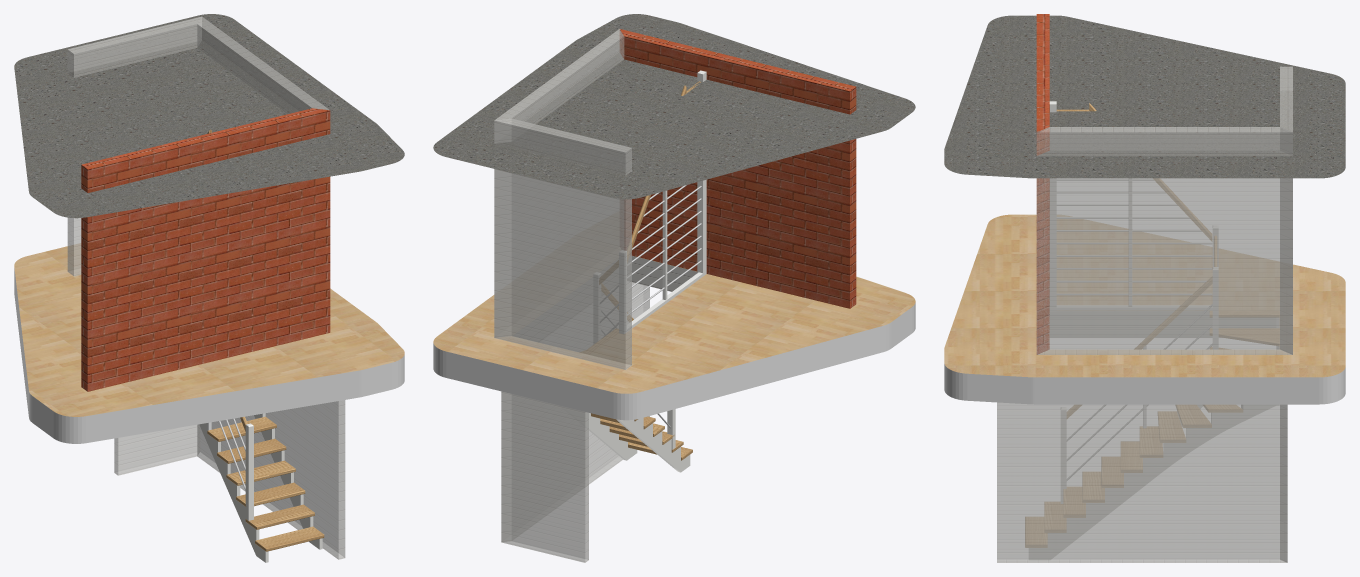
3 views of the same model, side by side, from view 1: azimuth 30°, elevation 25°; view 2: azimuth 150°, elevation 25°; view 3: azimuth 270°, elevation 25° (orthographic). The views are drawn at different scales.
Visible parts, largest first — view 1: _x0023_BEGIN_WALLczerwona_cegla.jpg1110_x002C_3, _x0023_OBJECT3Dbeton1.jpg1111, _x0023_OBJECT3Dcon_parkett.jpg1111, _x0023_BEGIN_WALLcon_PanelWhite.jpg1110_x002C_3, _x0023_OBJECT3D0_x002C_90_x002C_90_x002C_91, _x0023_TREADjesion.jpg1111, _x0023_STRING0_x002C_980_x002C_980_x002C_951 (×2), _x0023_POST0_x002C_980_x002C_980_x002C_951; view 2: _x0023_BEGIN_WALLcon_PanelWhite.jpg1110_x002C_3, _x0023_OBJECT3Dbeton1.jpg1111, _x0023_BEGIN_WALLczerwona_cegla.jpg1110_x002C_3, _x0023_OBJECT3Dcon_parkett.jpg1111, _x0023_OBJECT3D0_x002C_90_x002C_90_x002C_91, _x0023_BEGIN_OPENINGcon_PanelWhite.jpg1111, _x0023_POST0_x002C_980_x002C_980_x002C_951, _x0023_STRING0_x002C_980_x002C_980_x002C_951 (×2), _x0023_BOTTOMRAIL0_x002C_70_x002C_70_x002C_71, _x0023_TREADjesion.jpg1111, _x0023_HANDRAILjesion.jpg1111, _x0023_BOTTOMRAIL0_x002C_980_x002C_980_x002C_951; view 3: _x0023_BEGIN_WALLcon_PanelWhite.jpg1110_x002C_3, _x0023_OBJECT3Dbeton1.jpg1111, _x0023_OBJECT3Dcon_parkett.jpg1111, _x0023_OBJECT3D0_x002C_90_x002C_90_x002C_91, _x0023_TREADjesion.jpg1111, _x0023_BEGIN_OPENINGcon_PanelWhite.jpg1111, _x0023_STRING0_x002C_980_x002C_980_x002C_951, _x0023_BEGIN_WALLczerwona_cegla.jpg1110_x002C_3, _x0023_BOTTOMRAIL0_x002C_70_x002C_70_x002C_71, _x0023_POST0_x002C_980_x002C_980_x002C_951, _x0023_HANDRAILjesion.jpg1111, _x0023_BOTTOMRAIL0_x002C_980_x002C_980_x002C_951.
Part boxes in pixels (box(x1,y1,x2,y2)): _x0023_BEGIN_WALLczerwona_cegla.jpg1110_x002C_3: box(81, 108, 330, 391); _x0023_OBJECT3Dbeton1.jpg1111: box(14, 14, 404, 218); _x0023_OBJECT3Dcon_parkett.jpg1111: box(14, 243, 404, 416); _x0023_BEGIN_WALLcon_PanelWhite.jpg1110_x002C_3: box(67, 16, 345, 559); _x0023_OBJECT3D0_x002C_90_x002C_90_x002C_91: box(14, 268, 404, 443); _x0023_TREADjesion.jpg1111: box(207, 416, 324, 551); _x0023_STRING0_x002C_980_x002C_980_x002C_951 (×2): box(199, 413, 322, 562); _x0023_POST0_x002C_980_x002C_980_x002C_951: box(245, 423, 253, 520); _x0023_BEGIN_WALLcon_PanelWhite.jpg1110_x002C_3: box(494, 29, 649, 562); _x0023_OBJECT3Dbeton1.jpg1111: box(433, 14, 915, 199); _x0023_BEGIN_WALLczerwona_cegla.jpg1110_x002C_3: box(619, 29, 856, 308); _x0023_OBJECT3Dcon_parkett.jpg1111: box(433, 257, 915, 393); _x0023_OBJECT3D0_x002C_90_x002C_90_x002C_91: box(433, 302, 915, 420); _x0023_BEGIN_OPENINGcon_PanelWhite.jpg1111: box(513, 255, 697, 342); _x0023_POST0_x002C_980_x002C_980_x002C_951: box(593, 70, 706, 449); _x0023_STRING0_x002C_980_x002C_980_x002C_951 (×2): box(558, 405, 690, 472); _x0023_BOTTOMRAIL0_x002C_70_x002C_70_x002C_71: box(600, 185, 701, 428); _x0023_TREADjesion.jpg1111: box(580, 328, 692, 460); _x0023_HANDRAILjesion.jpg1111: box(599, 85, 686, 321); _x0023_BOTTOMRAIL0_x002C_980_x002C_980_x002C_951: box(625, 271, 706, 332); _x0023_BEGIN_WALLcon_PanelWhite.jpg1110_x002C_3: box(997, 66, 1292, 562); _x0023_OBJECT3Dbeton1.jpg1111: box(944, 15, 1345, 178); _x0023_OBJECT3Dcon_parkett.jpg1111: box(944, 214, 1345, 377); _x0023_OBJECT3D0_x002C_90_x002C_90_x002C_91: box(944, 364, 1345, 404); _x0023_TREADjesion.jpg1111: box(1025, 311, 1279, 547); _x0023_BEGIN_OPENINGcon_PanelWhite.jpg1111: box(1050, 311, 1275, 337); _x0023_STRING0_x002C_980_x002C_980_x002C_951: box(1029, 318, 1279, 559); _x0023_BEGIN_WALLczerwona_cegla.jpg1110_x002C_3: box(1036, 14, 1049, 354); _x0023_BOTTOMRAIL0_x002C_70_x002C_70_x002C_71: box(1057, 179, 1212, 480); _x0023_POST0_x002C_980_x002C_980_x002C_951: box(1049, 101, 1218, 503); _x0023_HANDRAILjesion.jpg1111: box(1067, 103, 1216, 418); _x0023_BOTTOMRAIL0_x002C_980_x002C_980_x002C_951: box(1057, 305, 1212, 310).
Size of what is drawn, in the model's own units: 4.39 by 5.45 by 4.57.
